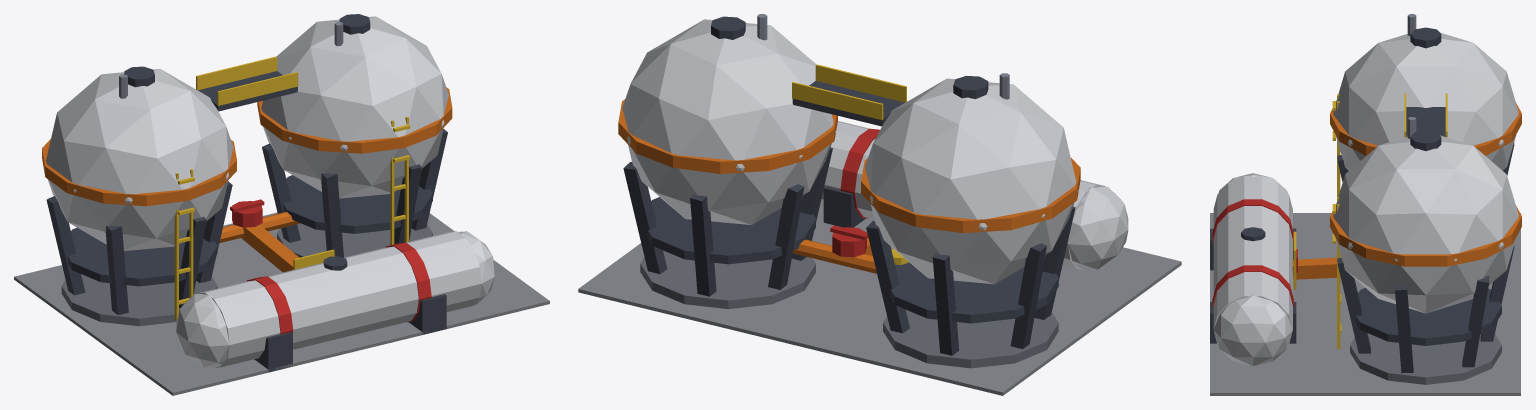
The model's file is Decor_LaunchPad_Tanks.fbx.
The picture shows the model from 3 angles, left to right: view 1: azimuth 30°, elevation 25°; view 2: azimuth 150°, elevation 25°; view 3: azimuth 270°, elevation 25°; orthographic projection. The views are drawn at different scales.
Parts seen in each view (by area): view 1: Tanks_Body; view 2: Tanks_Body; view 3: Tanks_Body.
Part boxes in pixels (bbox=[...]): Tanks_Body: bbox=[14, 14, 549, 395]; Tanks_Body: bbox=[578, 14, 1181, 395]; Tanks_Body: bbox=[1210, 14, 1521, 395].
Size of the model in its own units: 25 by 14.4 by 18.
